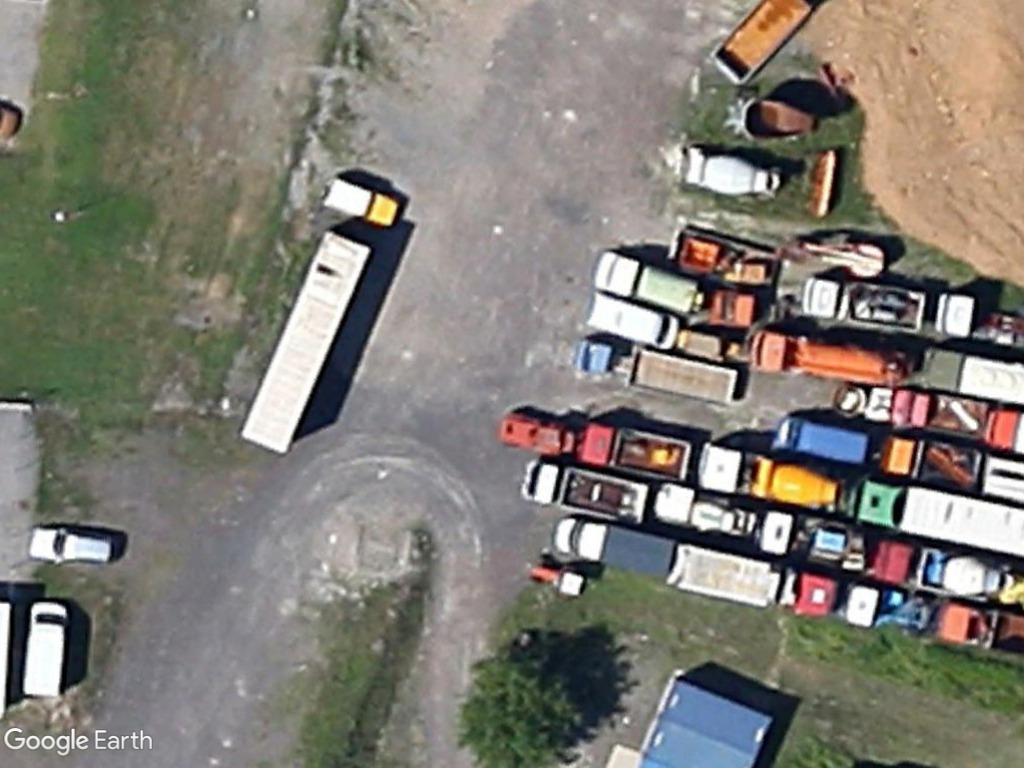car: (22, 522, 120, 570)
longvehicle: (231, 224, 371, 460)
others: (513, 457, 650, 524)
truck: (546, 507, 690, 587)
van: (587, 293, 683, 357), (20, 596, 74, 705)
